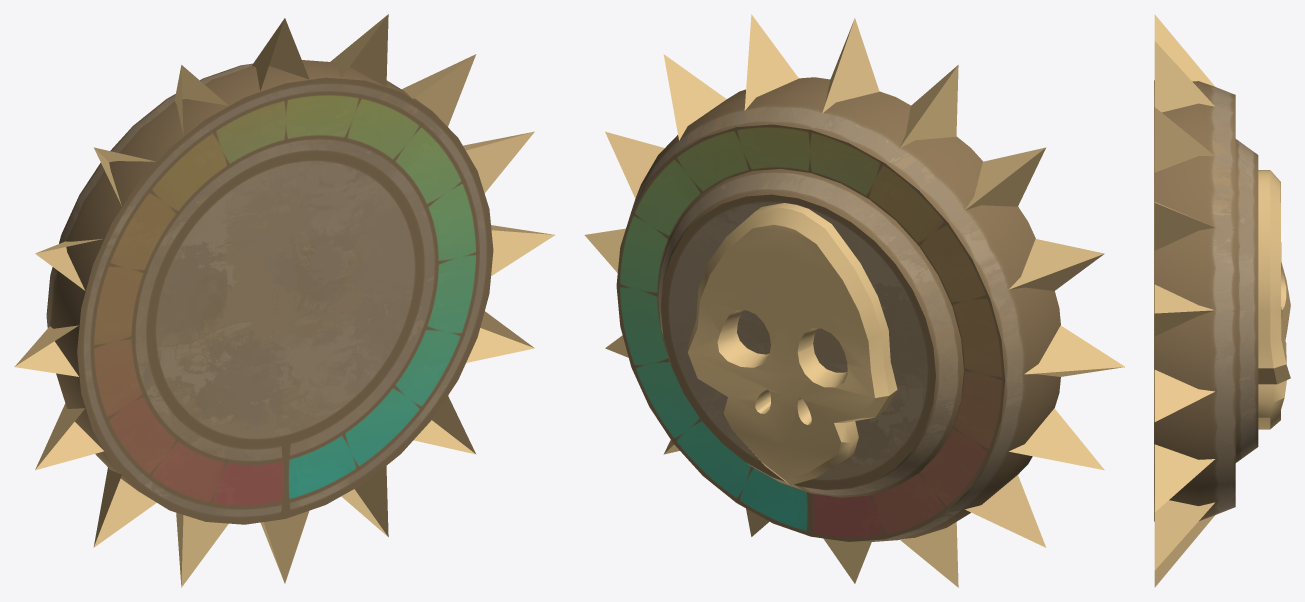
File: MayanTimerC.fbx
The picture shows the model from 3 angles, left to right: view 1: azimuth 30°, elevation 25°; view 2: azimuth 150°, elevation 25°; view 3: azimuth 270°, elevation 25°; orthographic projection. The views are drawn at different scales.
Parts seen in each view (by area): view 1: Circle, Cube; view 2: Circle, Cube.007, Cube; view 3: Circle, Cube, Cube.007.
Boxes of the visible parts, left/top/right/bottom form: Circle: left=46, top=60, right=493, bottom=524; Cube: left=14, top=14, right=554, bottom=587; Circle: left=616, top=77, right=1060, bottom=541; Cube.007: left=687, top=203, right=897, bottom=485; Cube: left=584, top=14, right=1124, bottom=587; Circle: left=1154, top=80, right=1258, bottom=521; Cube: left=1154, top=14, right=1214, bottom=587; Cube.007: left=1258, top=170, right=1290, bottom=429.
Bounding box in the file's own units: 2047 × 2047 × 487.
2 materials, 1 textured.
